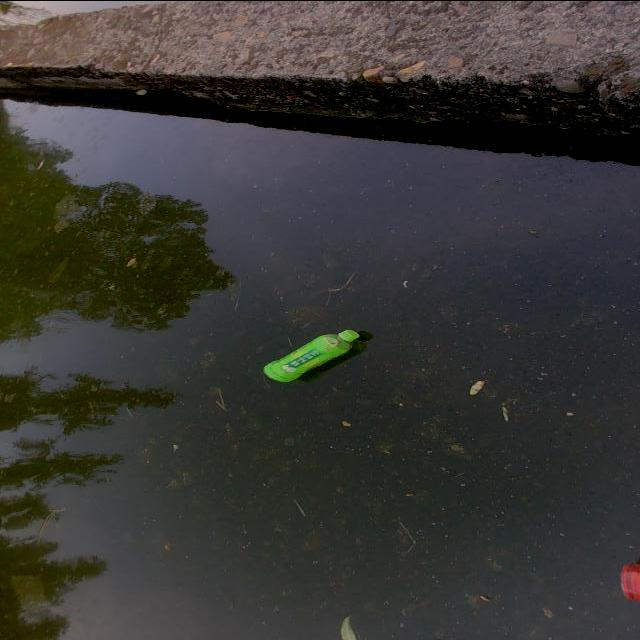bottle: (245, 322, 368, 394)
